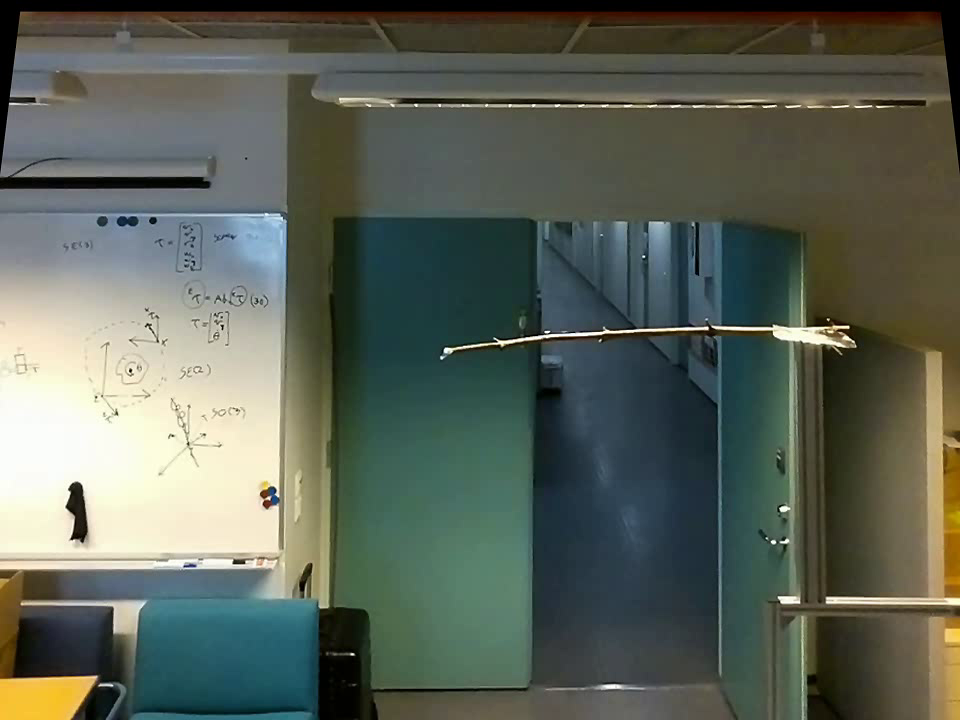aluminum_frame: (788, 342, 833, 602), (3, 542, 290, 580), (776, 581, 955, 619), (0, 204, 291, 224), (276, 214, 287, 560), (758, 592, 788, 718)
branch: (458, 314, 769, 361)
